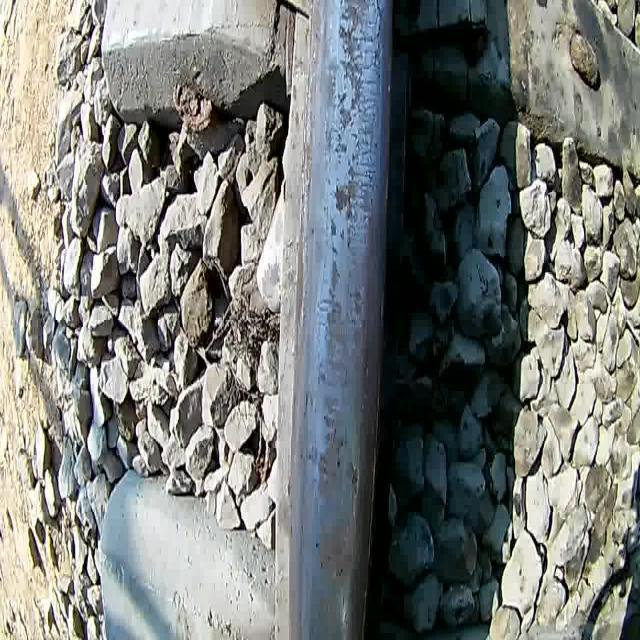Cracks: (370, 0, 386, 44)
Squats: (314, 257, 370, 388), (334, 0, 385, 129), (326, 132, 378, 255), (316, 513, 364, 630), (315, 392, 348, 501), (347, 452, 361, 522)
